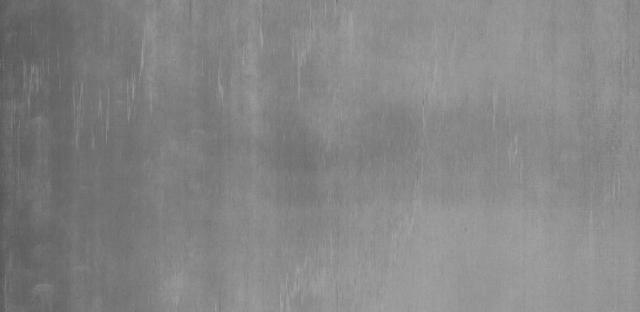silk_spot: (210, 25, 372, 124), (23, 43, 124, 126)
